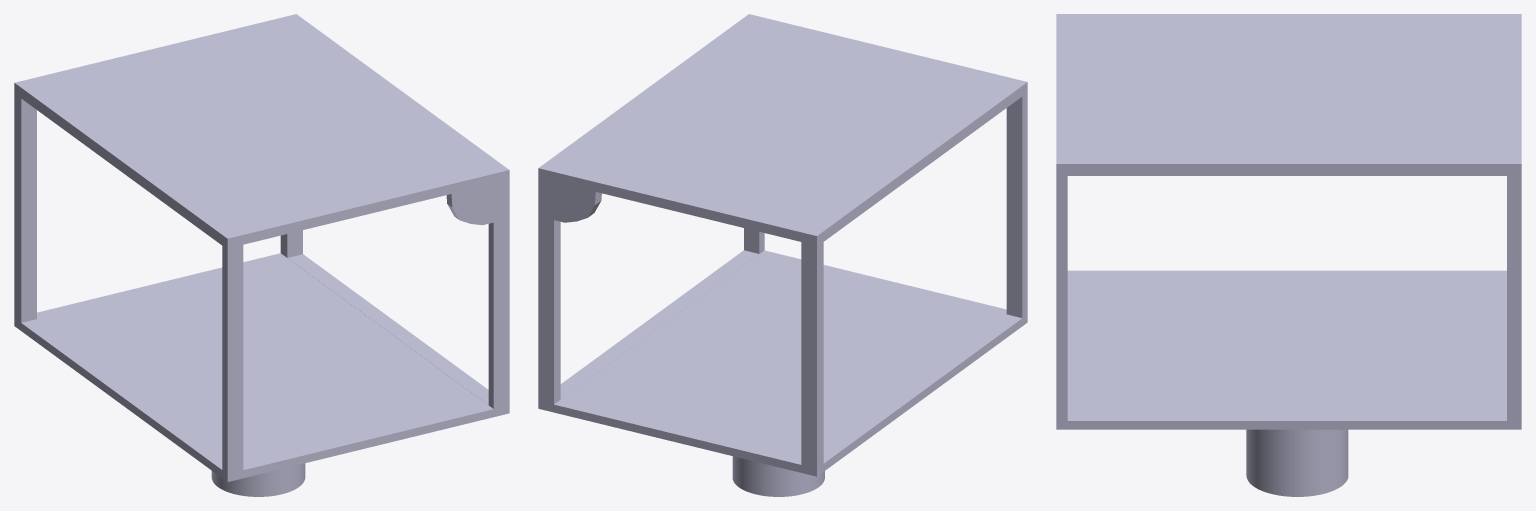
File: Unnamed_krytn_tray_body.dae
3 renders of one model, left to right at view 1: azimuth 30°, elevation 25°; view 2: azimuth 150°, elevation 25°; view 3: azimuth 270°, elevation 25°, orthographic. The views are drawn at different scales.
Parts seen in each view (by area): view 1: node0; view 2: node0; view 3: node0.
Boxes of the visible parts, x1,y1,x2,y2 form: node0: [14, 14, 509, 496]; node0: [538, 14, 1027, 496]; node0: [1056, 14, 1521, 496].
Bounding box in the file's own units: 0.2673 × 0.35 × 0.3205.
